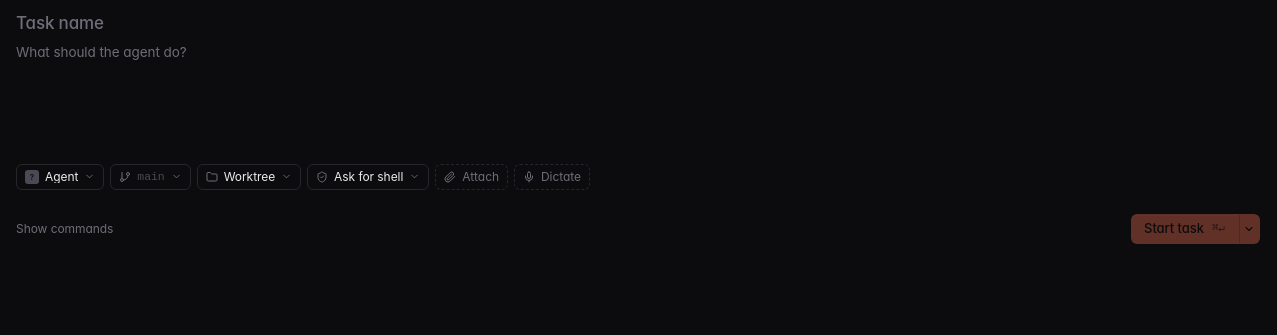
Test case: NewTaskForm › hides the Run chip when the repository has no run commands
Click the button "Show commands": (65, 229) [16,220,113,237]
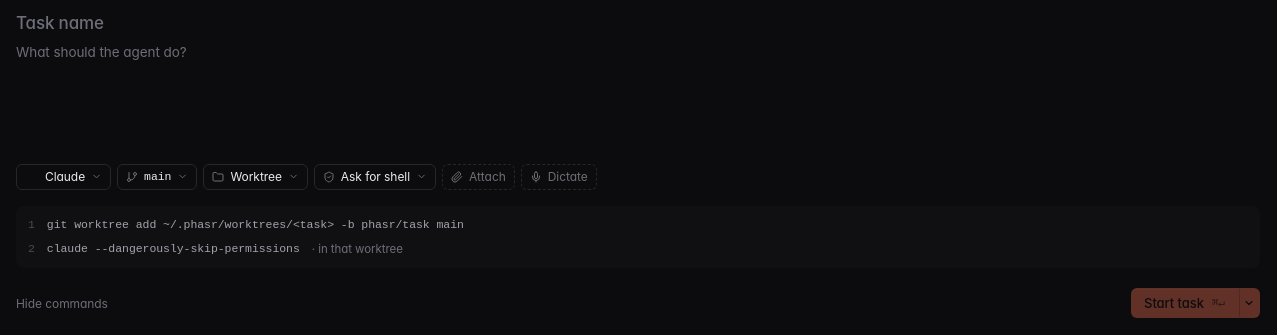
Check: the text "claude --dangerously-skip-permissions" is shown, box [47,240,300,258]
